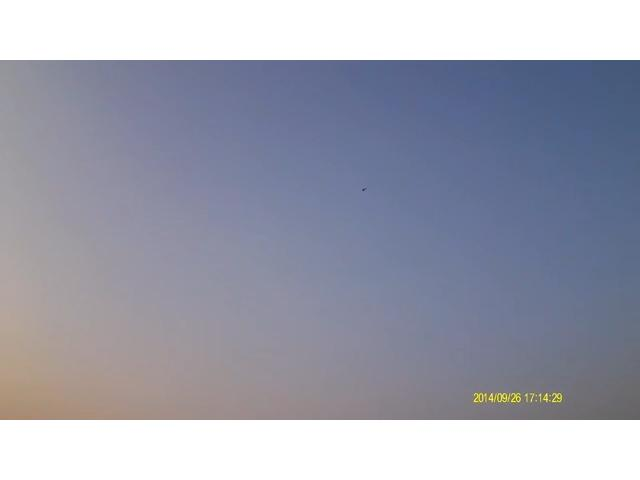Anti-Drone: (352, 180, 374, 198)
